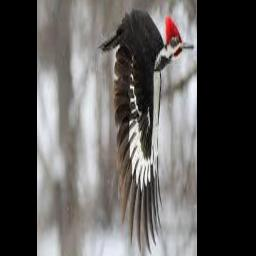Woodpecker: (99, 11, 195, 250)
